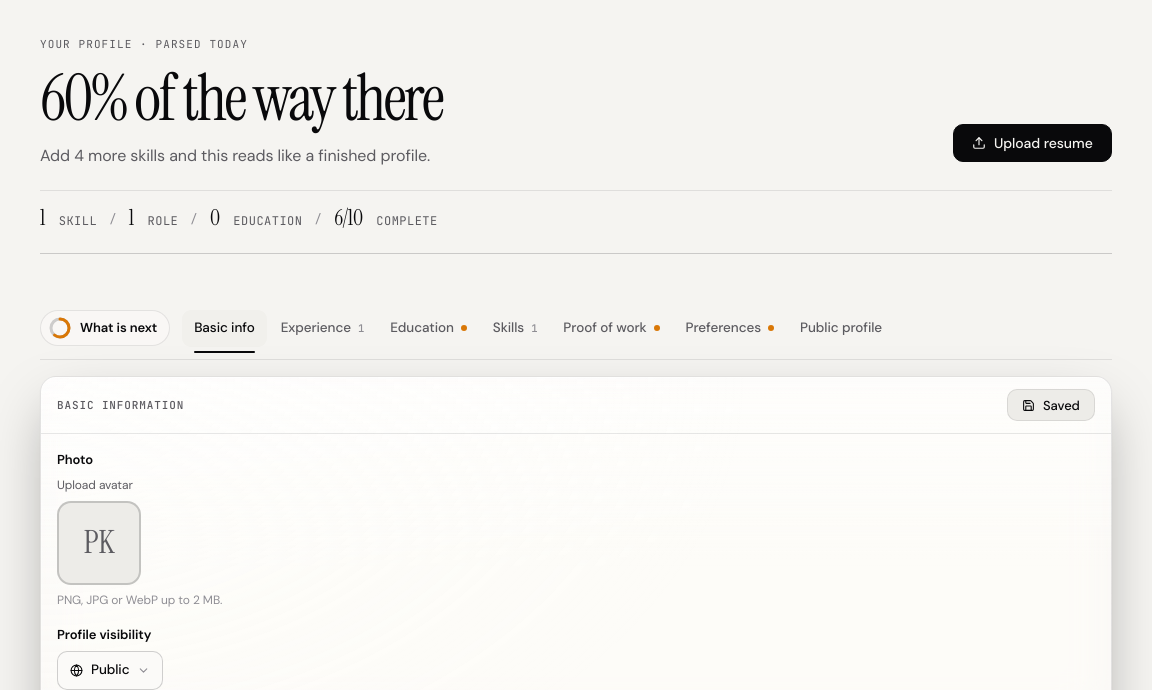
Test: Profile — Rightfit layout › switches tabs and names the next action from the pill
Expected: the element named "Profile sections" is shown, [182, 310, 894, 347]
Step 1. Click the tab "Experience 1" → [322, 328], box [269, 310, 376, 347]
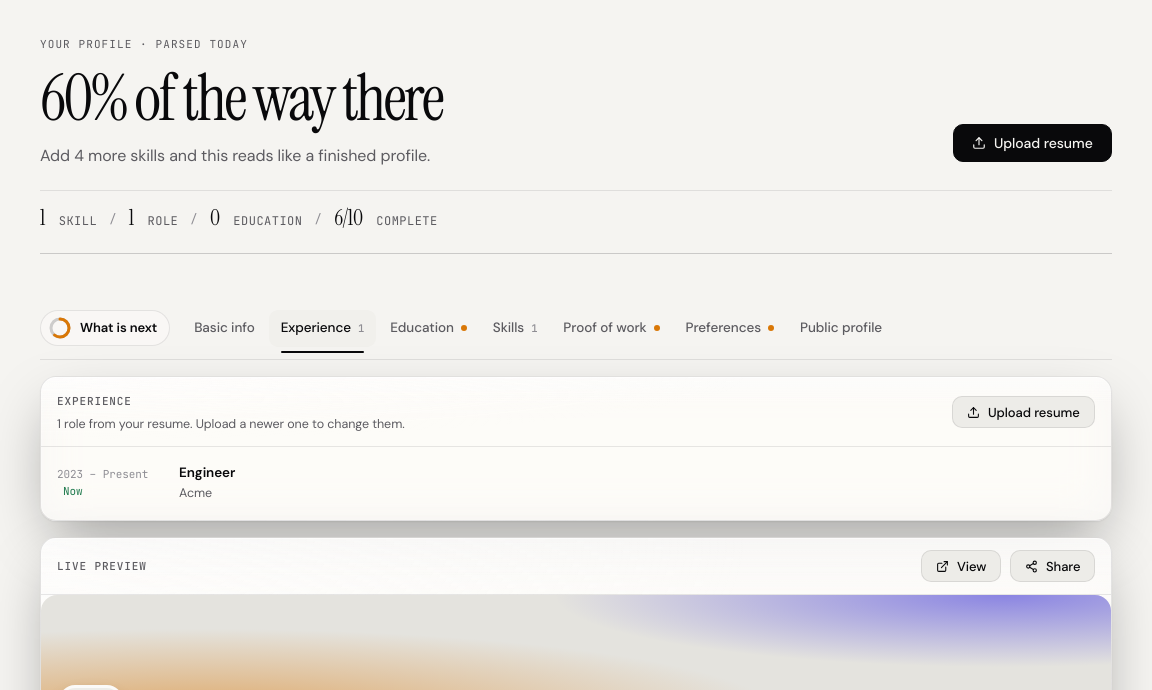
Now the panel shows "Acme", box [179, 485, 212, 501]
Step 2. Click the button named "% complete" → [105, 328], box [40, 310, 170, 346]
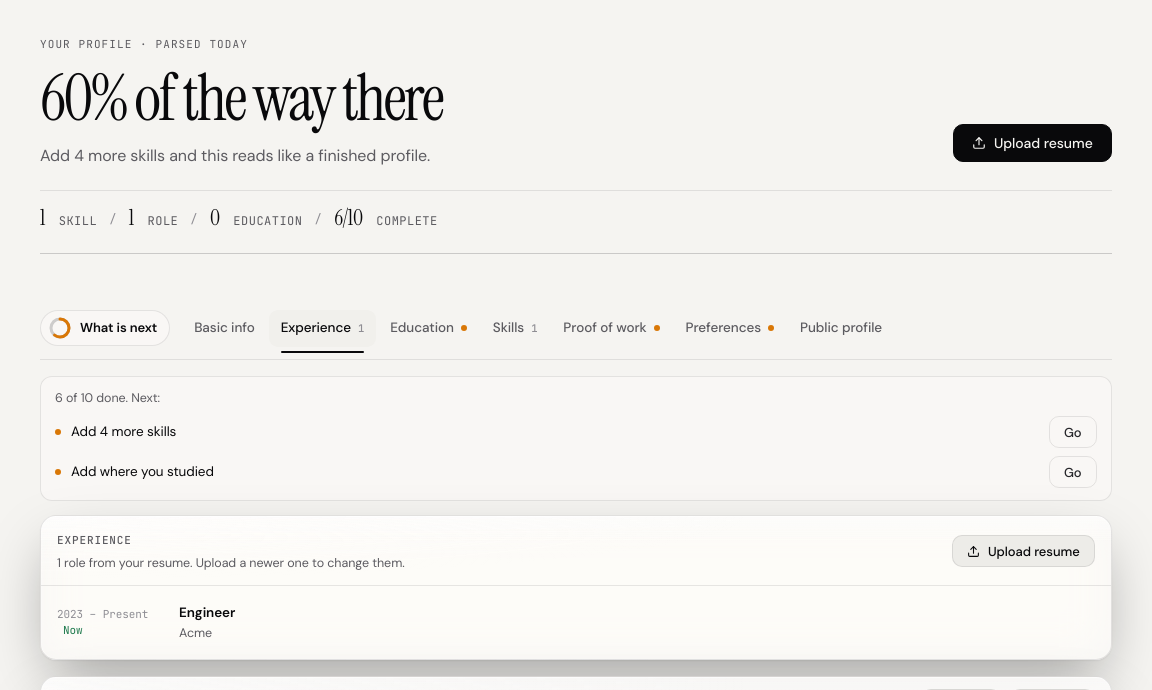
Now the message shows "Next:", box [93, 390, 160, 406]
